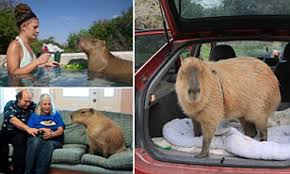capivara: (175, 55, 281, 159), (70, 107, 127, 158), (76, 37, 132, 85)
